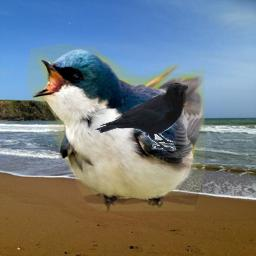Crow: (95, 83, 188, 151)
Swallow: (27, 44, 205, 211)
